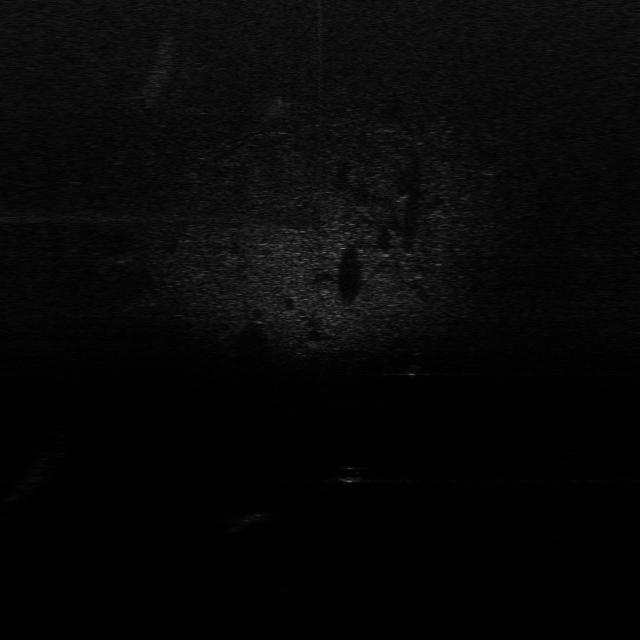ball: (336, 466, 360, 485)
square cage: (228, 507, 268, 533)
tyre: (402, 346, 431, 378)
